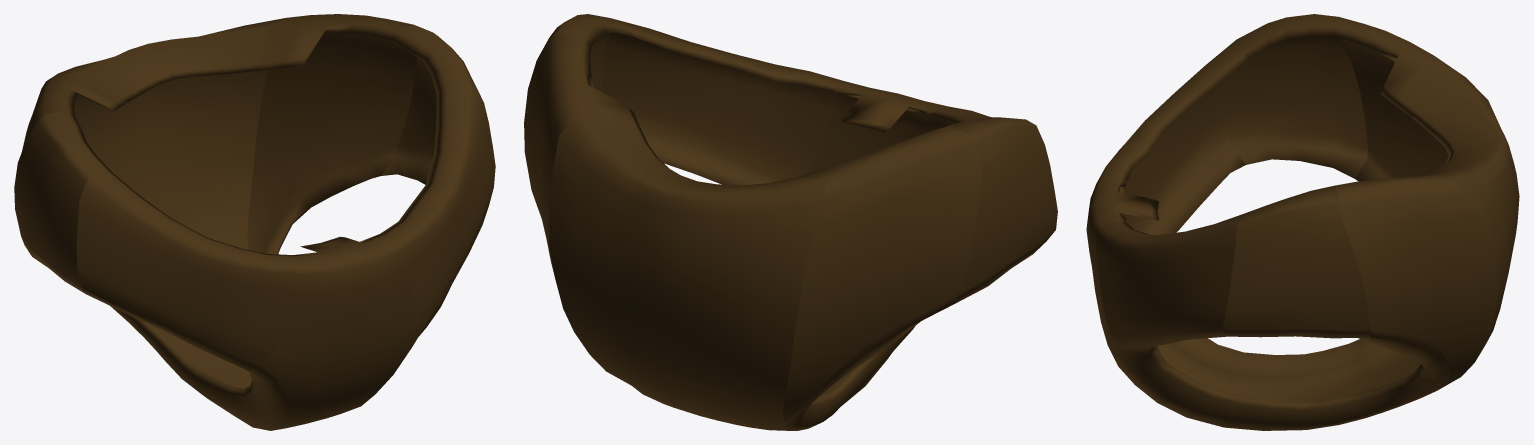
Rendered from legging.fbx.
3 views of the same model, side by side, from view 1: azimuth 30°, elevation 25°; view 2: azimuth 150°, elevation 25°; view 3: azimuth 270°, elevation 25° (orthographic). The views are drawn at different scales.
Visible parts, largest first — view 1: Leg; view 2: Leg; view 3: Leg.
Boxes of the visible parts, box(x1,y1,x2,y2) form: Leg: box(14, 14, 495, 430); Leg: box(524, 14, 1057, 430); Leg: box(1086, 14, 1519, 430).
Size of the model in its own units: 3765 by 2721 by 3354.
